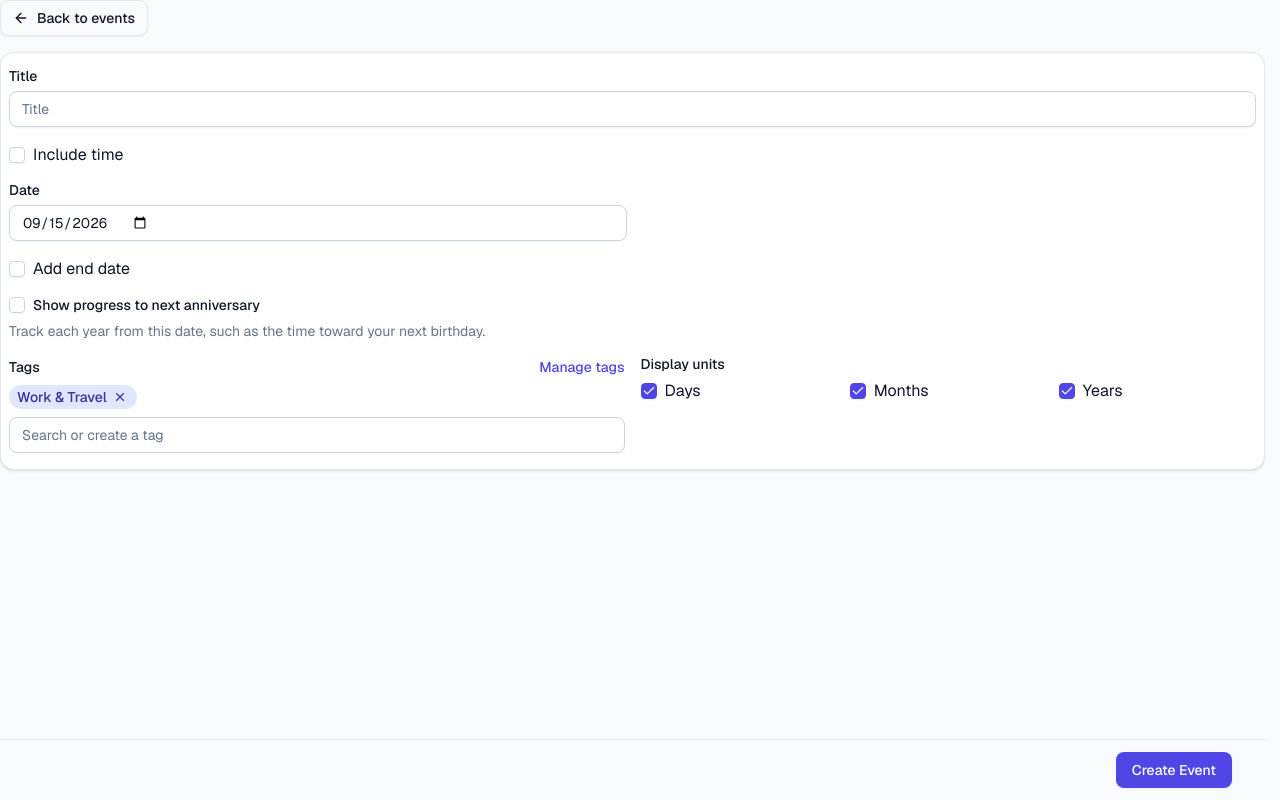
Test case: Adding an event from a tag view › lets the user remove the default and select another tag
This screenshot has width=1280, height=800.
Click the button named "Remove Work & Travel" at (120, 397), box [111,388,129,406]
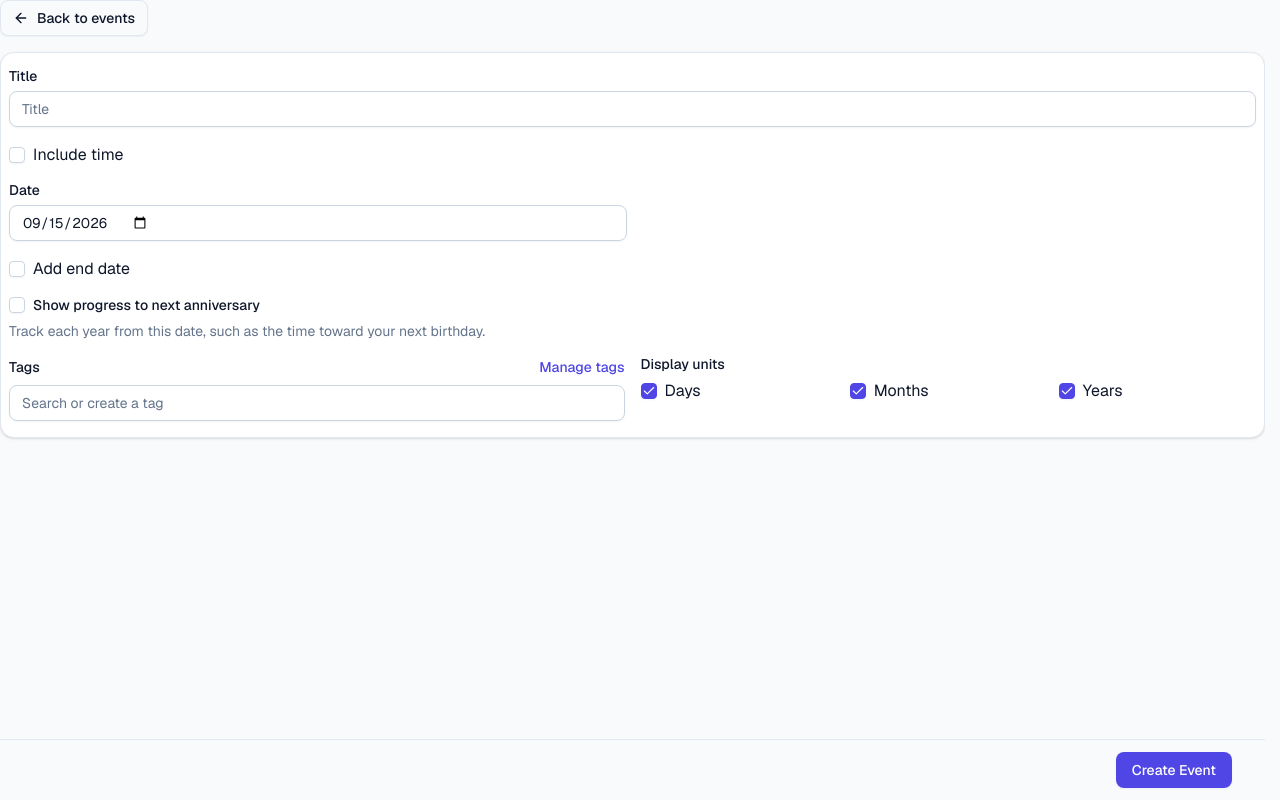
Type "Personal" into the dropdown at (317, 403), box [9,385,624,421]
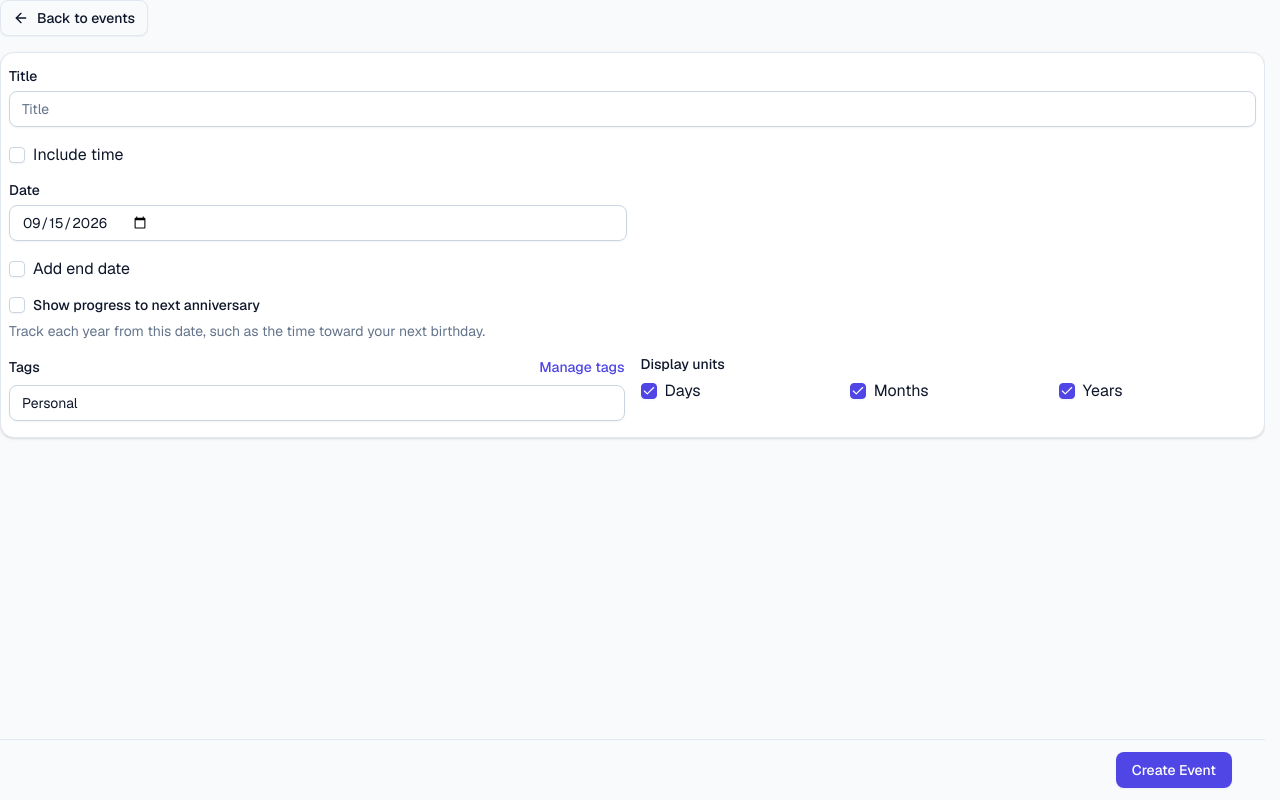
Press Enter in the dropdown, box [9,385,624,421]
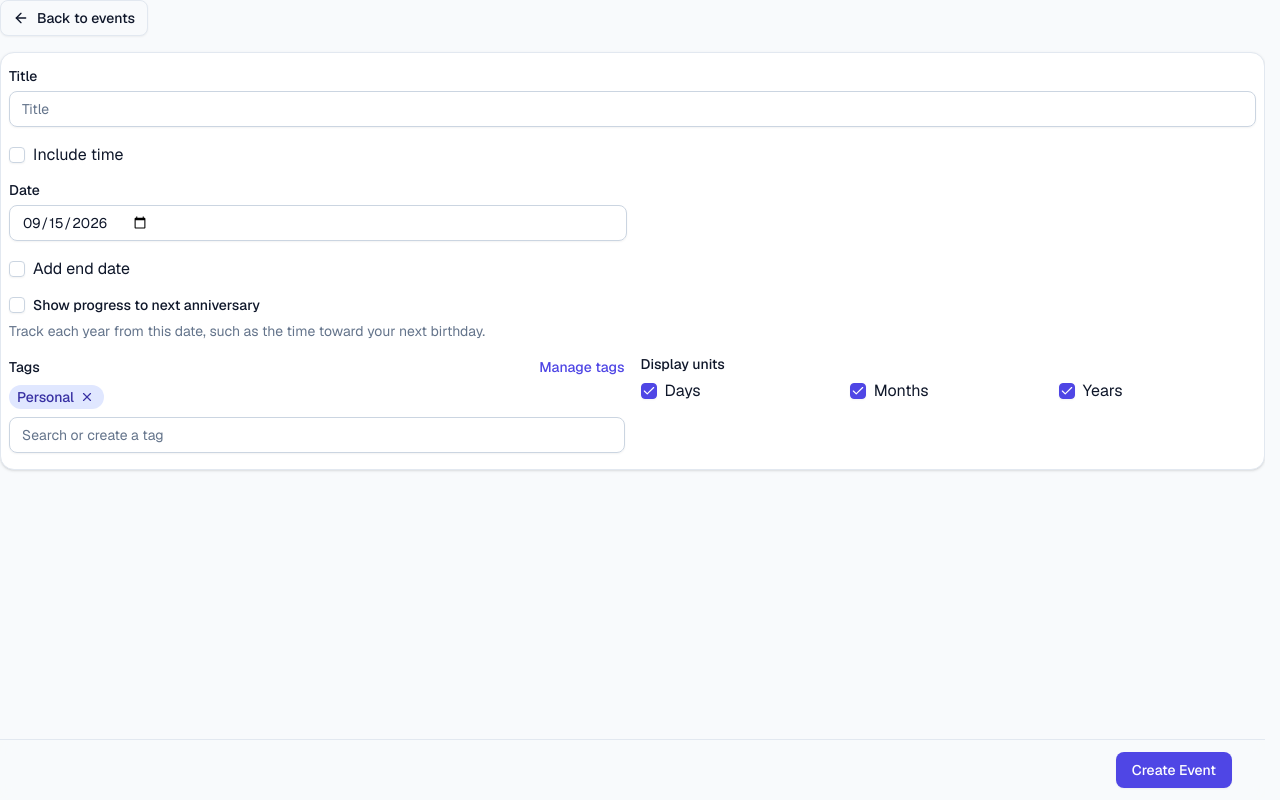
Now the button named "Remove Personal" is shown, box [78,388,96,406]
